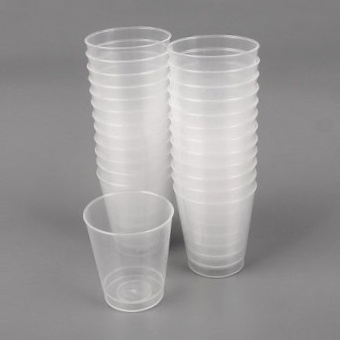plastic: (83, 201, 173, 312)
